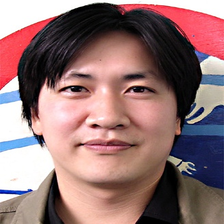no_mask: (41, 38, 176, 183)
